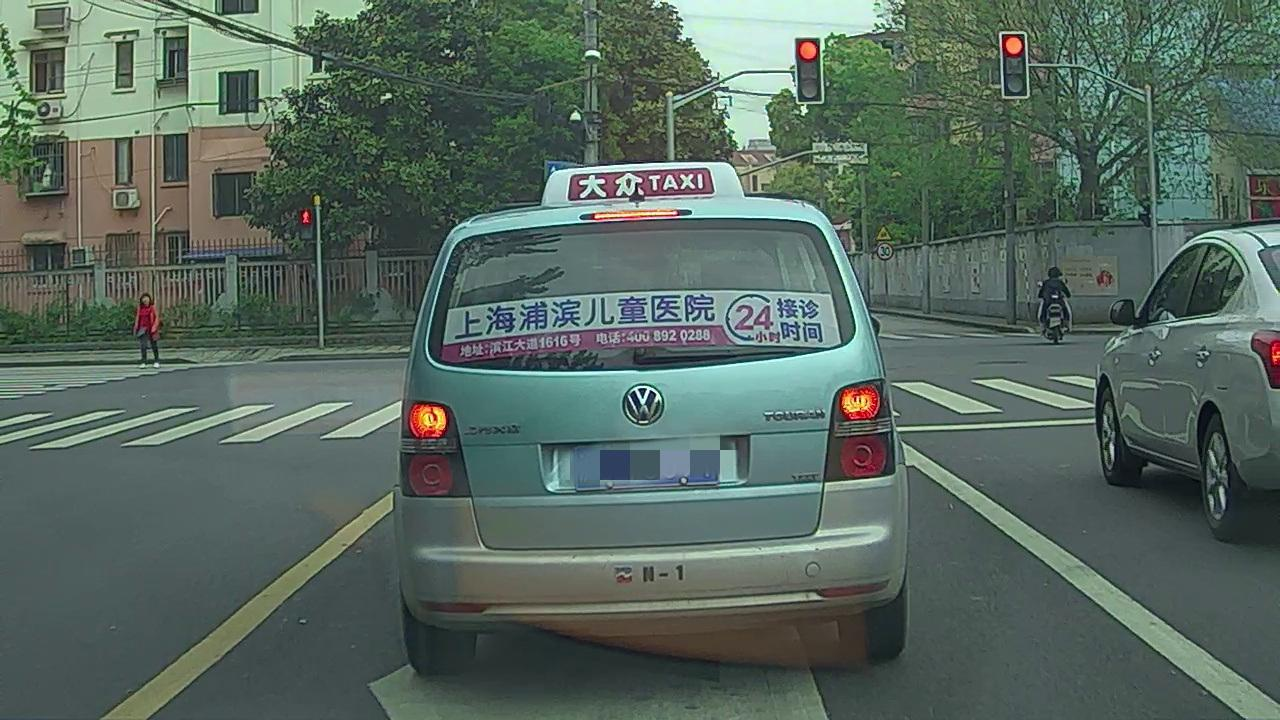traffic_light: (999, 33, 1029, 98), (796, 37, 823, 102)
